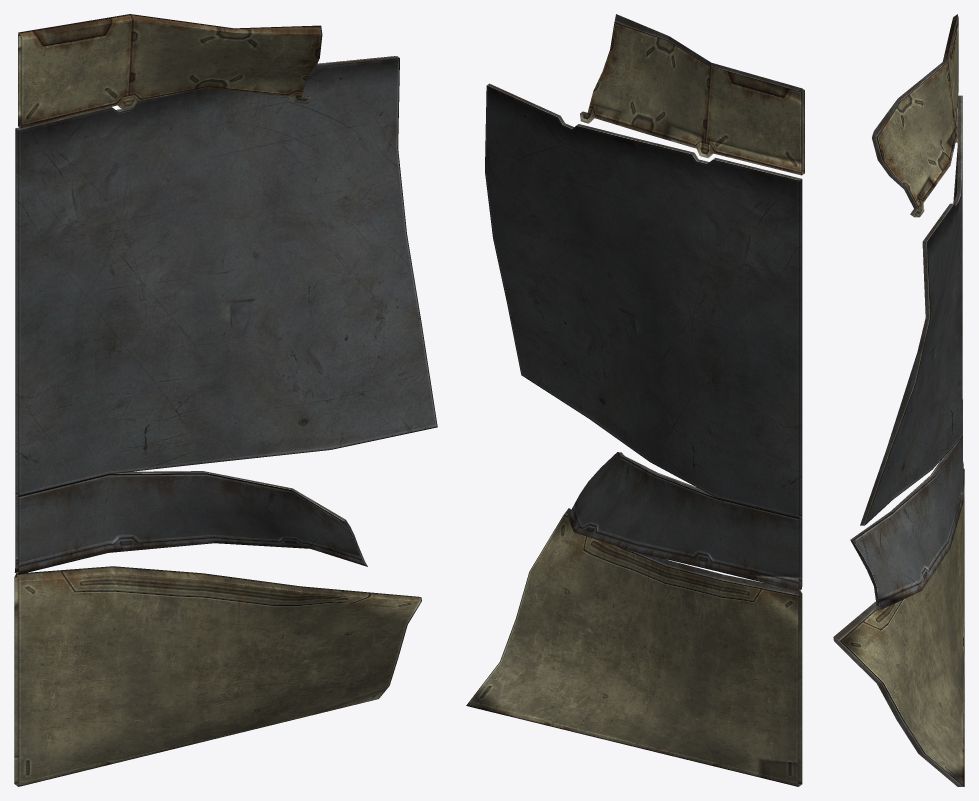
File: datasite_flat01_short_broken_left.dae
3 renders of one model, left to right at view 1: azimuth 30°, elevation 25°; view 2: azimuth 150°, elevation 25°; view 3: azimuth 270°, elevation 25°, orthographic. The views are drawn at different scales.
Parts seen in each view (by area): view 1: polySurface153; view 2: polySurface153; view 3: polySurface153.
Part boxes in pixels (x1,y1,x2,y2): polySurface153: [14, 14, 437, 786]; polySurface153: [466, 14, 804, 786]; polySurface153: [833, 14, 964, 786].
Bounding box in the file's own units: 2 × 4 × 0.7592.
